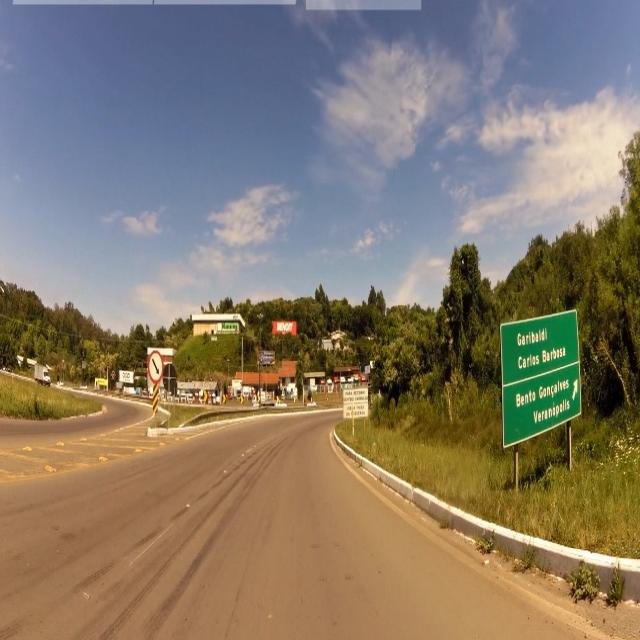I-4: (498, 309, 584, 442)
